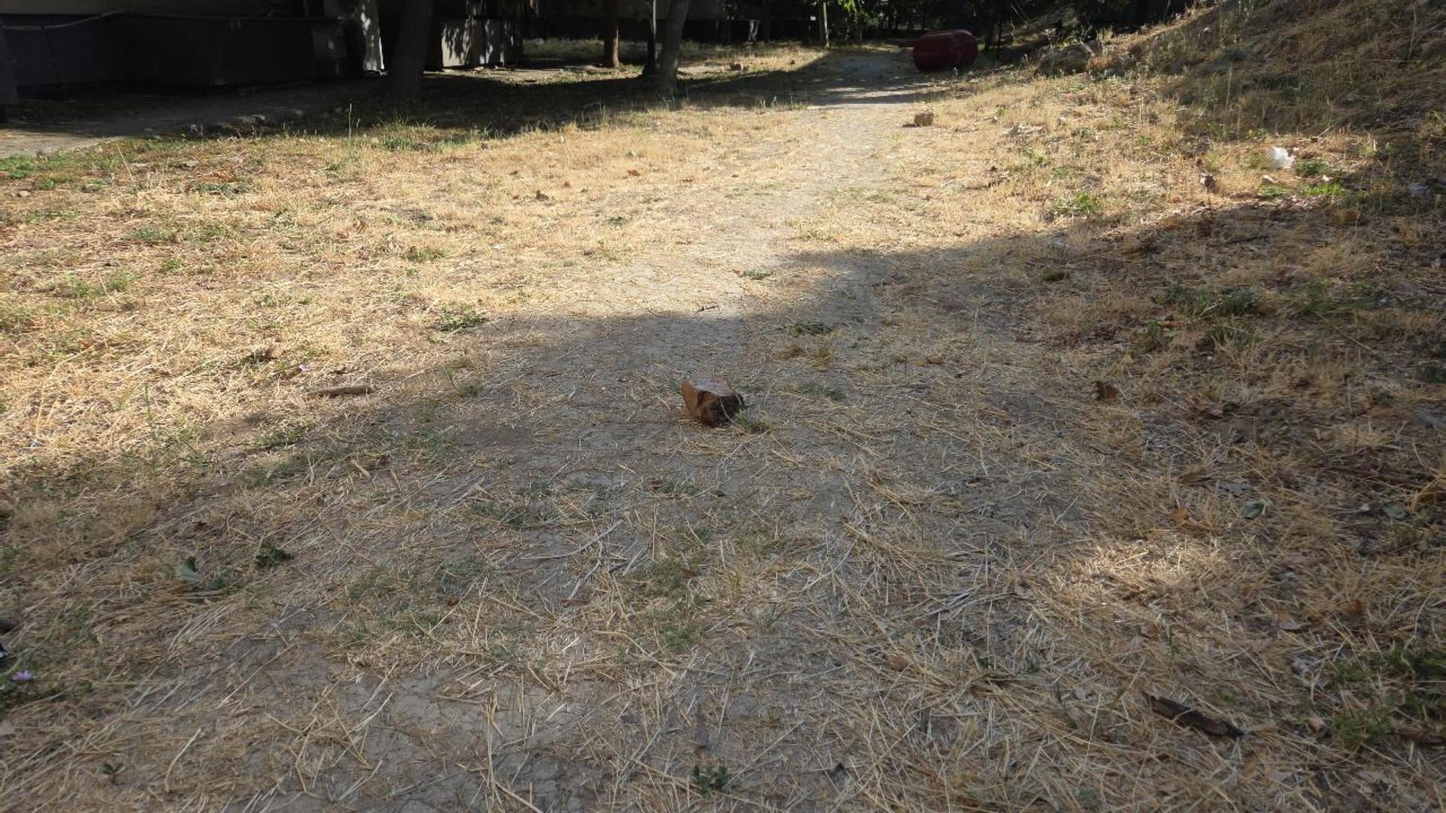rock: (680, 376, 743, 426), (1036, 44, 1094, 75)
